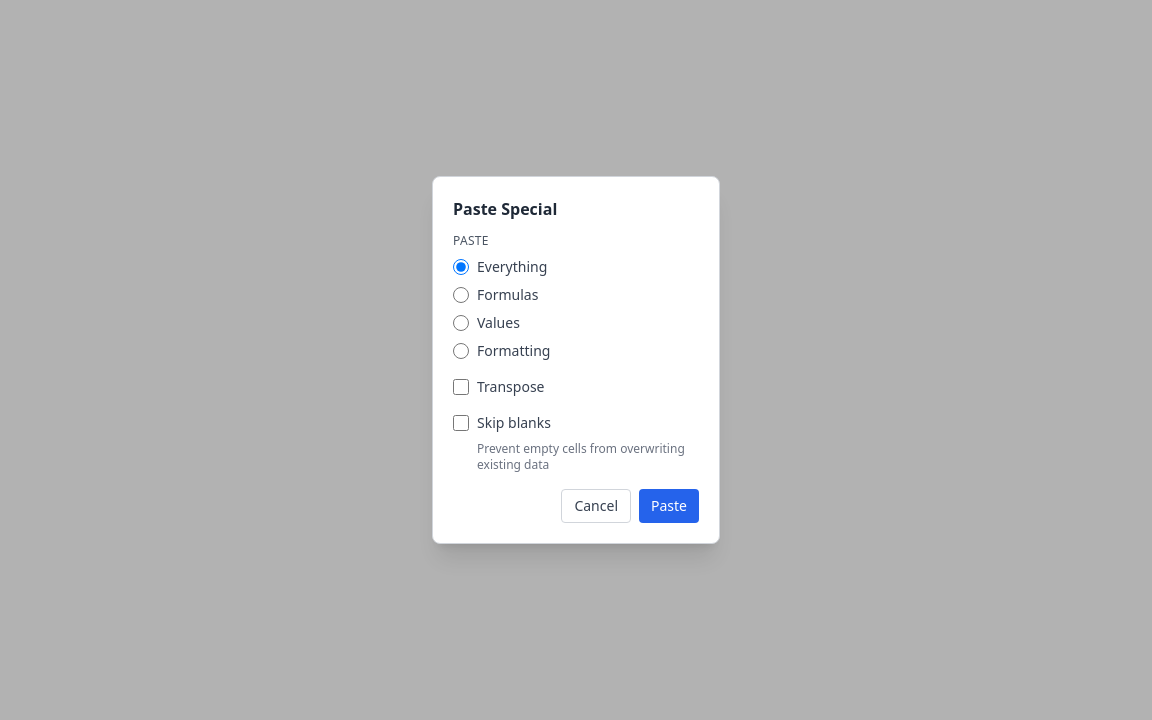
Test: PasteSpecialModal — Extended Options › toggles transpose checkbox
Click the checkbox labelled "Transpose": (461, 387) [453,379,469,395]
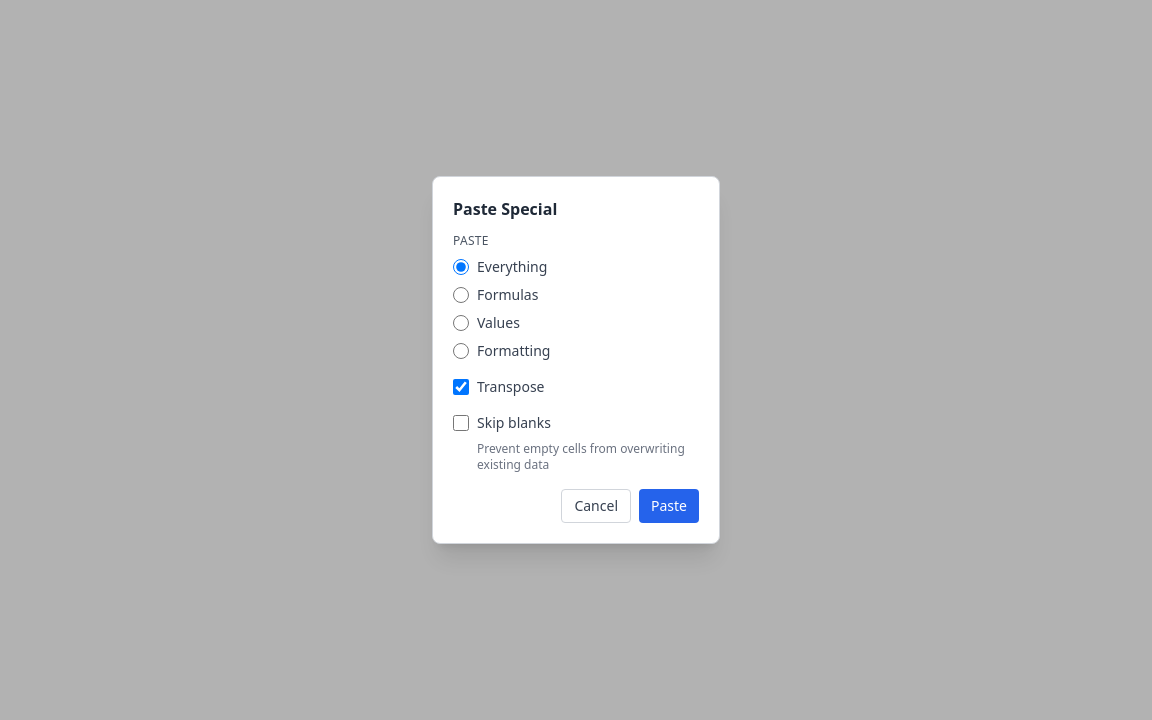
expect the checkbox labelled "Transpose" is checked: met, box [453,379,469,395]
